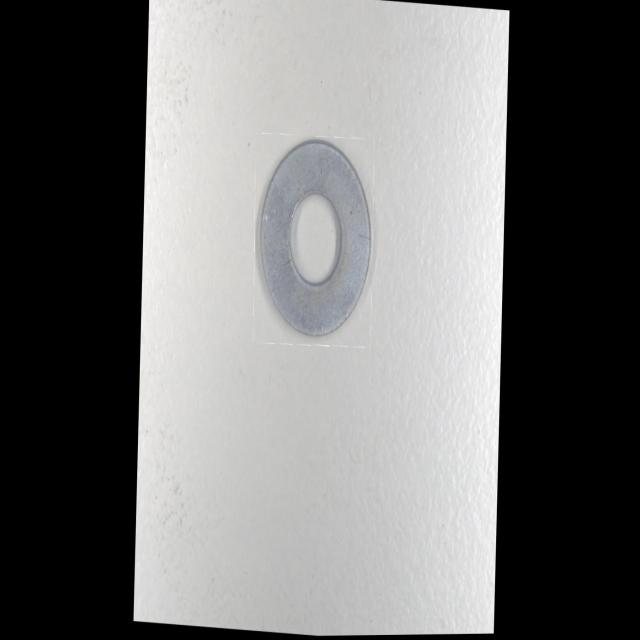washer: (254, 137, 372, 345)
